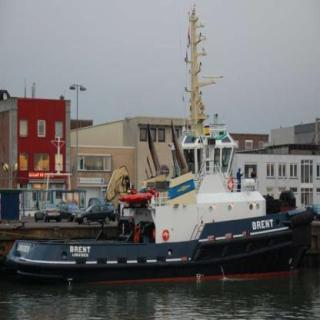Tug Boat: (0, 84, 319, 278)
